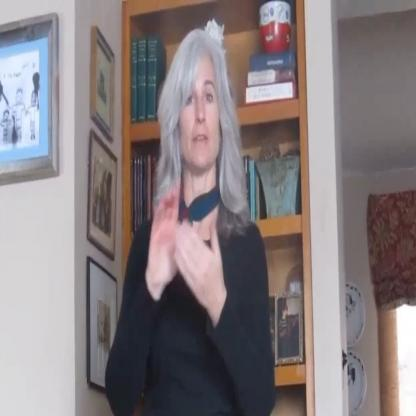NiceToMeetYou: (140, 179, 226, 340)
